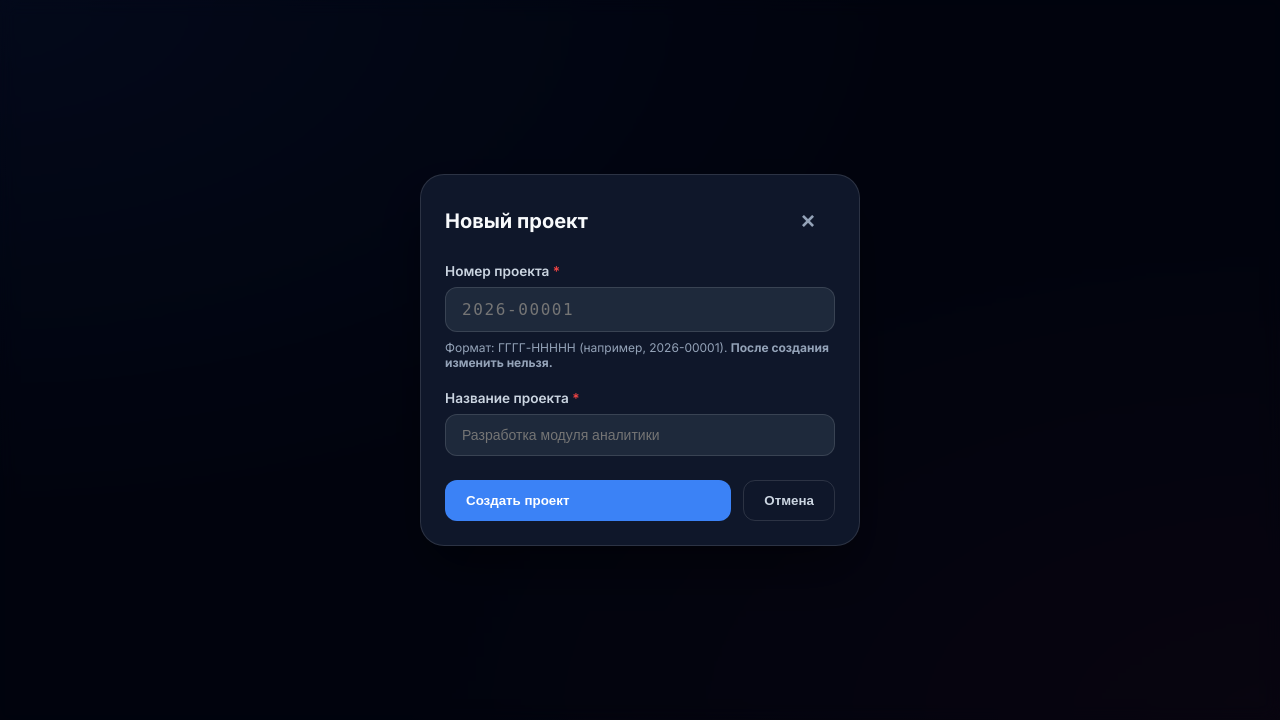
Scenario: CreateProjectModal › валидирует формат номера проекта (ГГГГ-ННННН)
The width and height of the screenshot is (1280, 720).
Type "Тестовый проект" into the field with placeholder "Разработка модуля аналитики" at (640, 435), box left=445, top=414, right=835, bottom=456
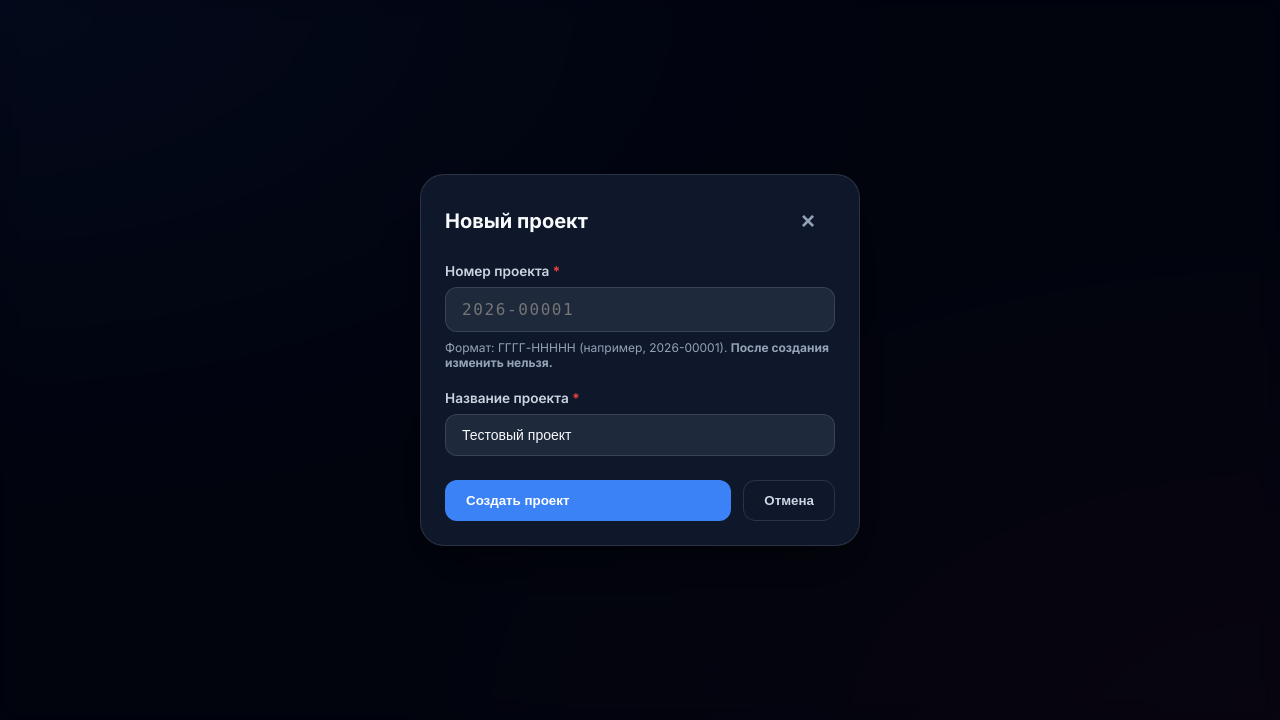
Type "2026-1" into the field with placeholder "2026-00001" at (640, 310), box left=445, top=287, right=835, bottom=332
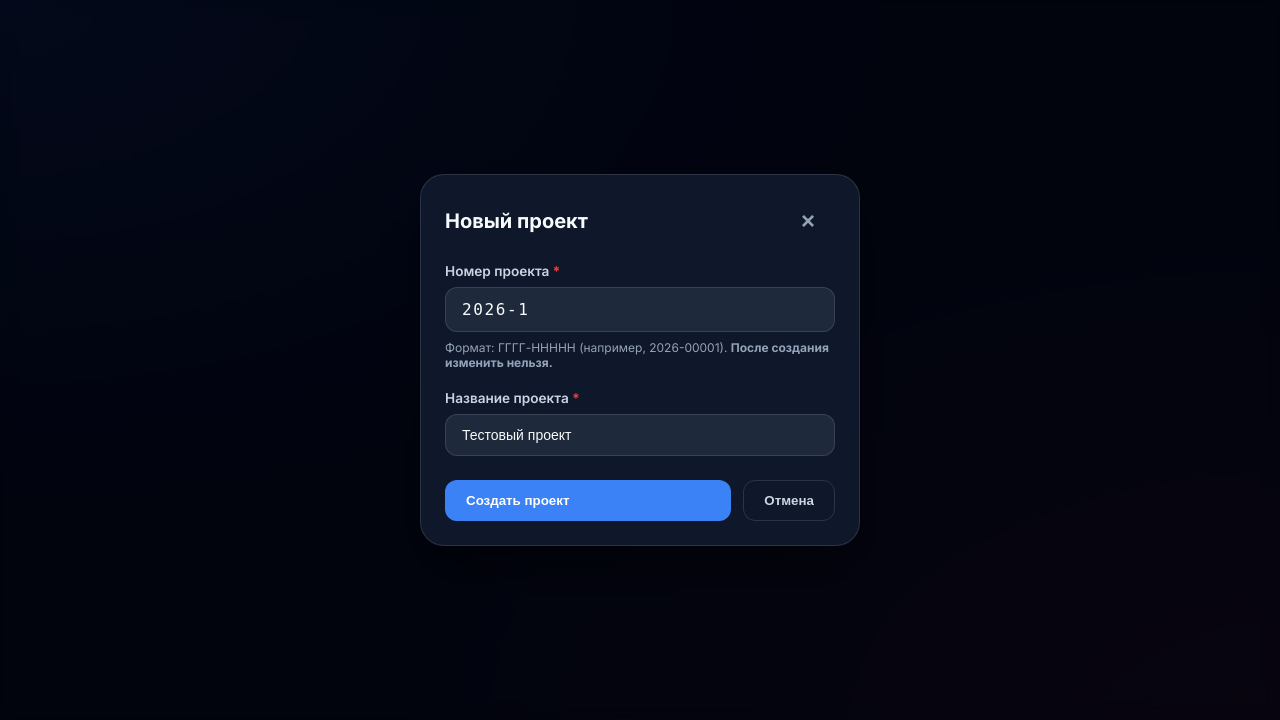
Click the button "Создать проект" at (518, 500), box left=445, top=480, right=731, bottom=521
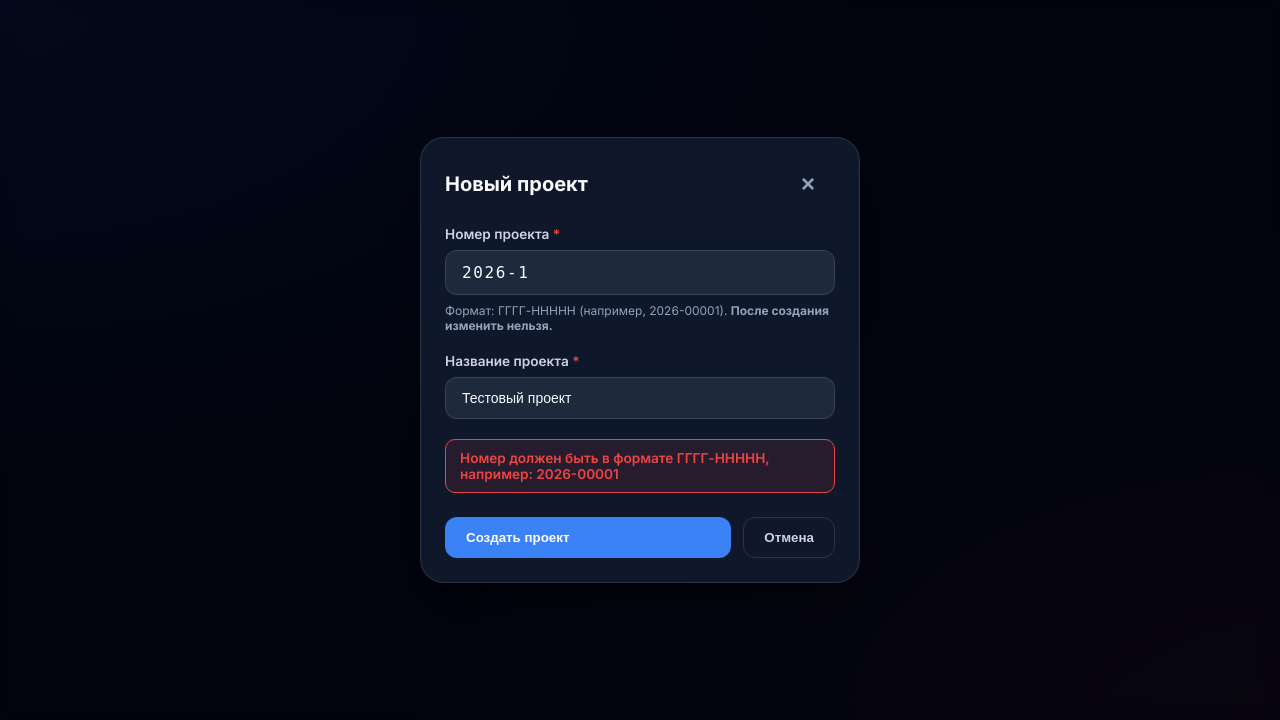
Check: the text "Номер должен быть в формате ГГГГ-ННННН, например: 2026-00001" is shown, box left=445, top=439, right=835, bottom=493
